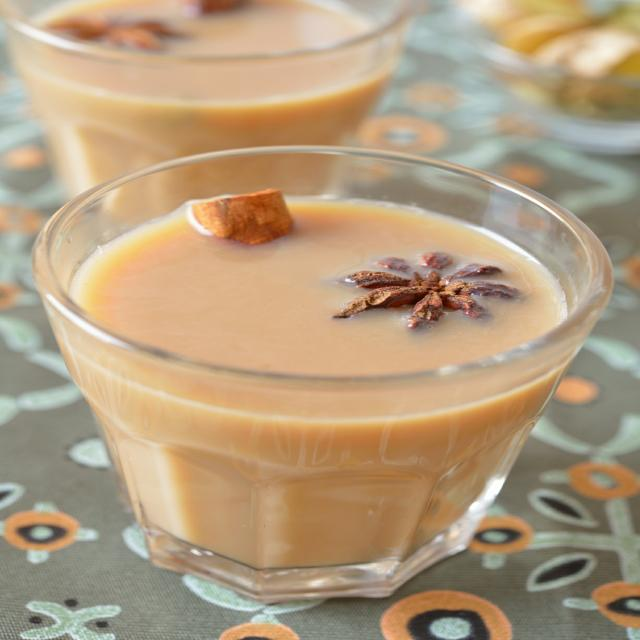Chai: (77, 192, 578, 562), (24, 0, 383, 226)
